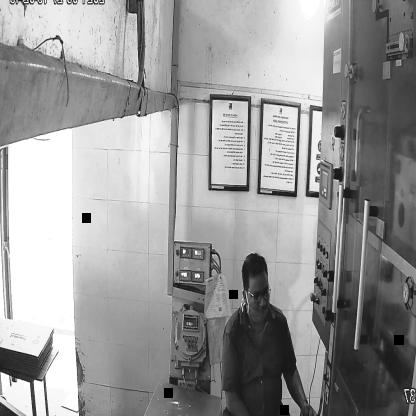goggles: (242, 284, 275, 307)
